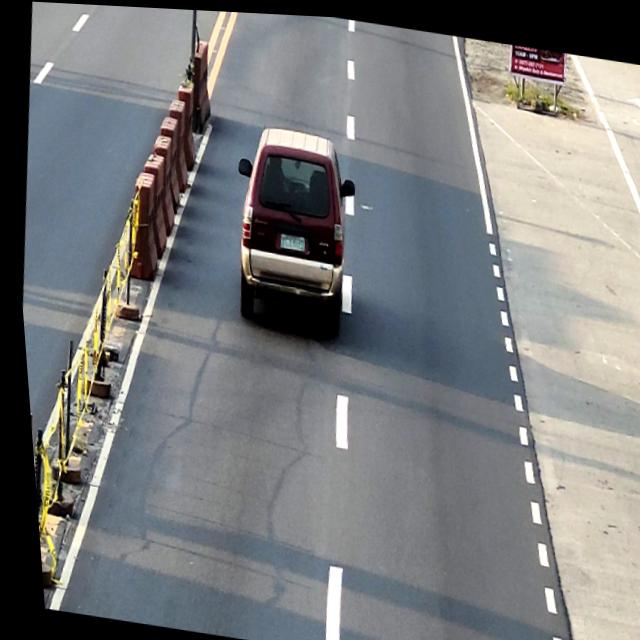Car: (217, 118, 366, 336)
License-Plate: (276, 230, 302, 249)
